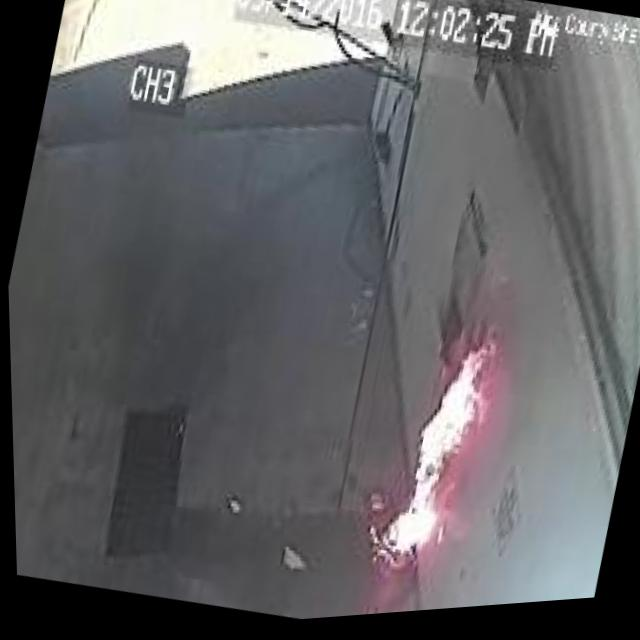fire: (354, 310, 521, 602)
